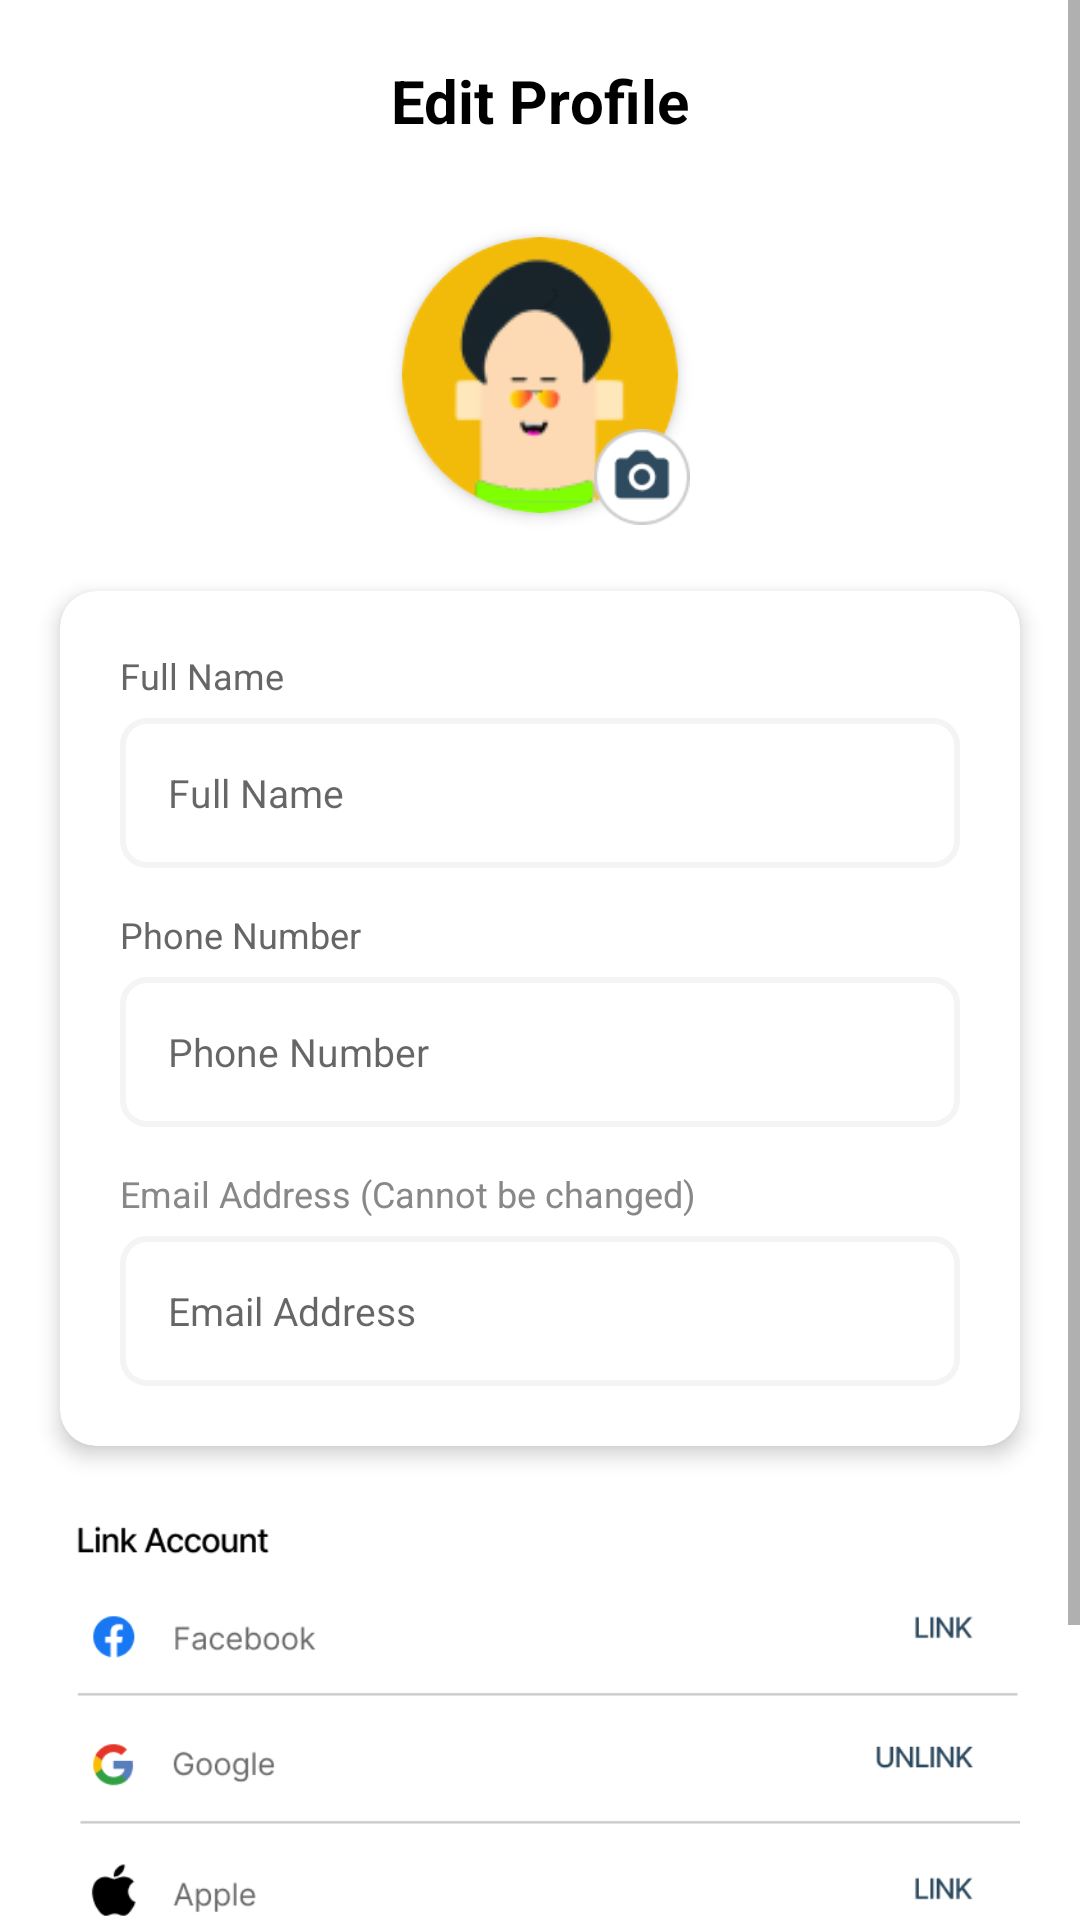

Where to tap for icons on this 1080×1920 app screen, as point (x, y):
edit photo: point (642, 474)
